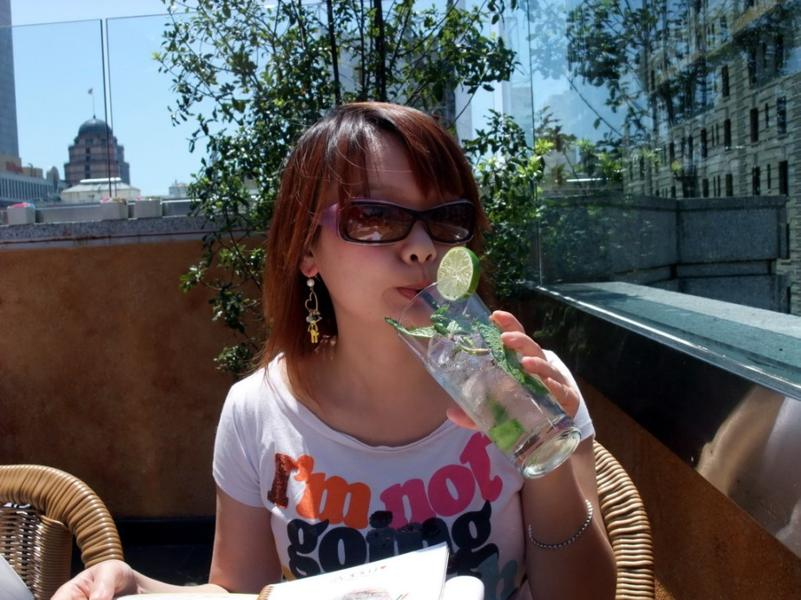person: (48, 102, 617, 599)
